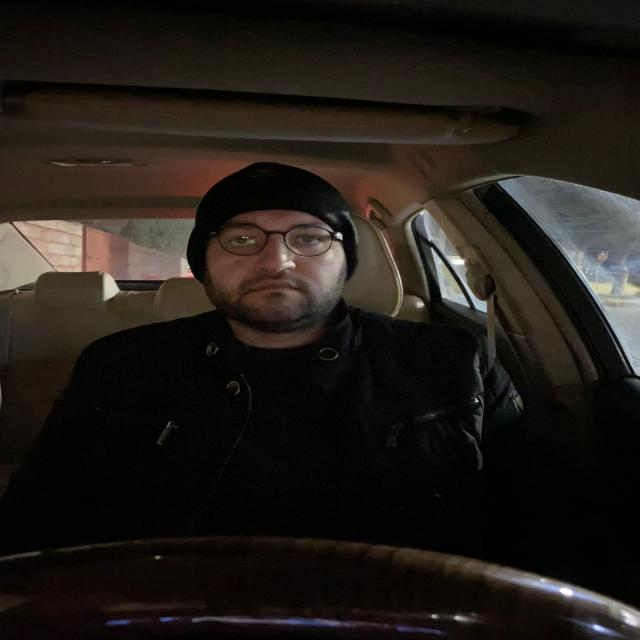person: (179, 152, 377, 347)
